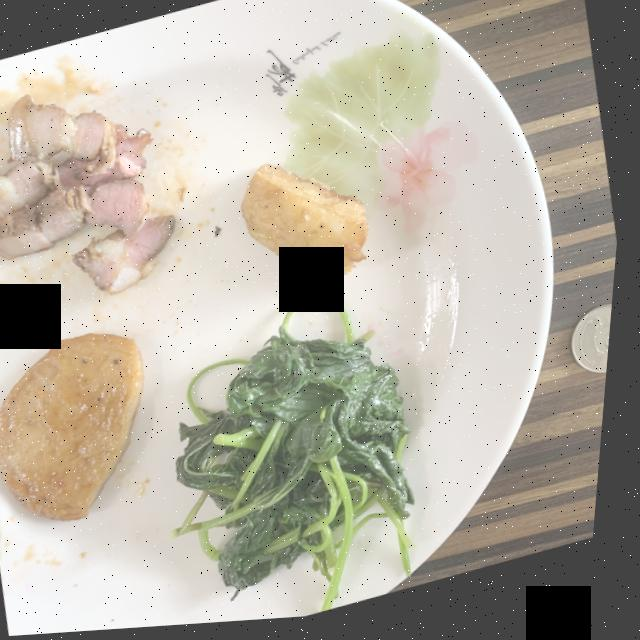coin: (578, 313, 618, 382)
fish cake: (1, 334, 151, 522)
fried potato: (245, 167, 373, 281)
grilled pork: (0, 96, 179, 296)
sweet potato leaves: (179, 298, 423, 617)
